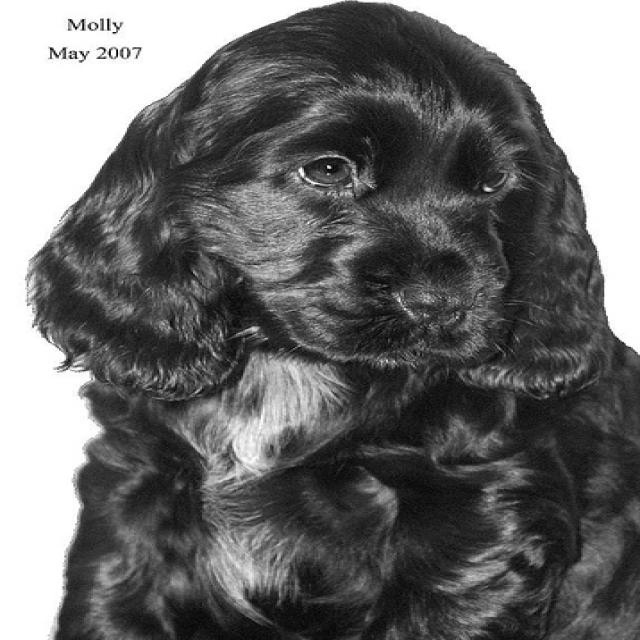dog-english_cocker_spaniel: (16, 1, 636, 637)
